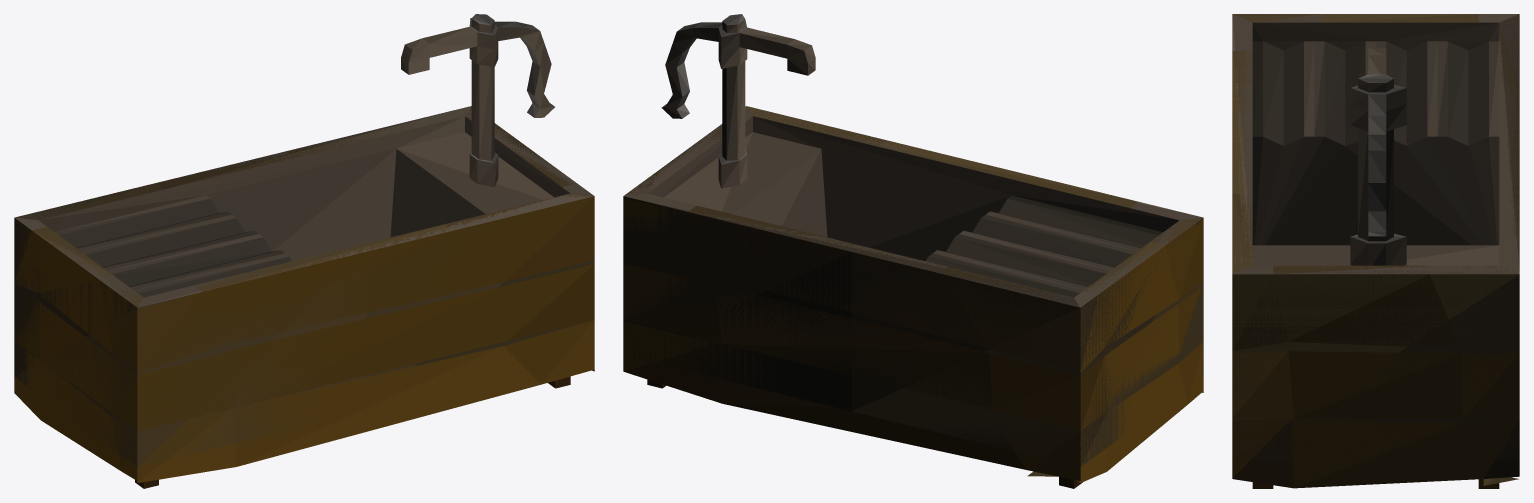
File: sink.obj
3 views of the same model, side by side, from view 1: azimuth 30°, elevation 25°; view 2: azimuth 150°, elevation 25°; view 3: azimuth 270°, elevation 25° (orthographic). The views are drawn at different scales.
Parts seen in each view (by area): view 1: Object Sink 2026-09-21_11-11-42; view 2: Object Sink 2026-09-21_11-11-42; view 3: Object Sink 2026-09-21_11-11-42.
Boxes of the visible parts, x1,y1,x2,y2 form: Object Sink 2026-09-21_11-11-42: (14, 14, 594, 488); Object Sink 2026-09-21_11-11-42: (623, 14, 1203, 488); Object Sink 2026-09-21_11-11-42: (1232, 14, 1519, 488).
Size of the model in its own units: 250 by 168 by 112.
